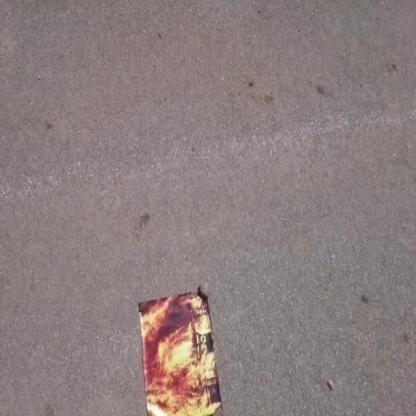fire-poster: (136, 282, 224, 415)
